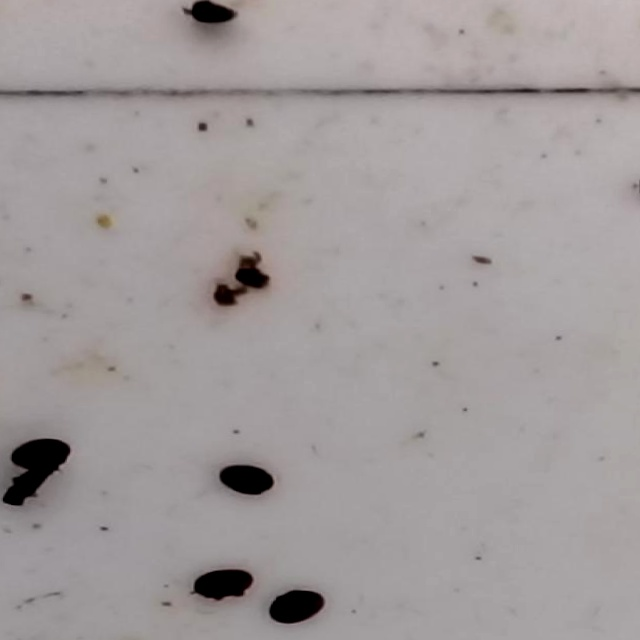varroa: (268, 590, 331, 627), (12, 435, 73, 472), (186, 569, 255, 601), (217, 462, 276, 498)
